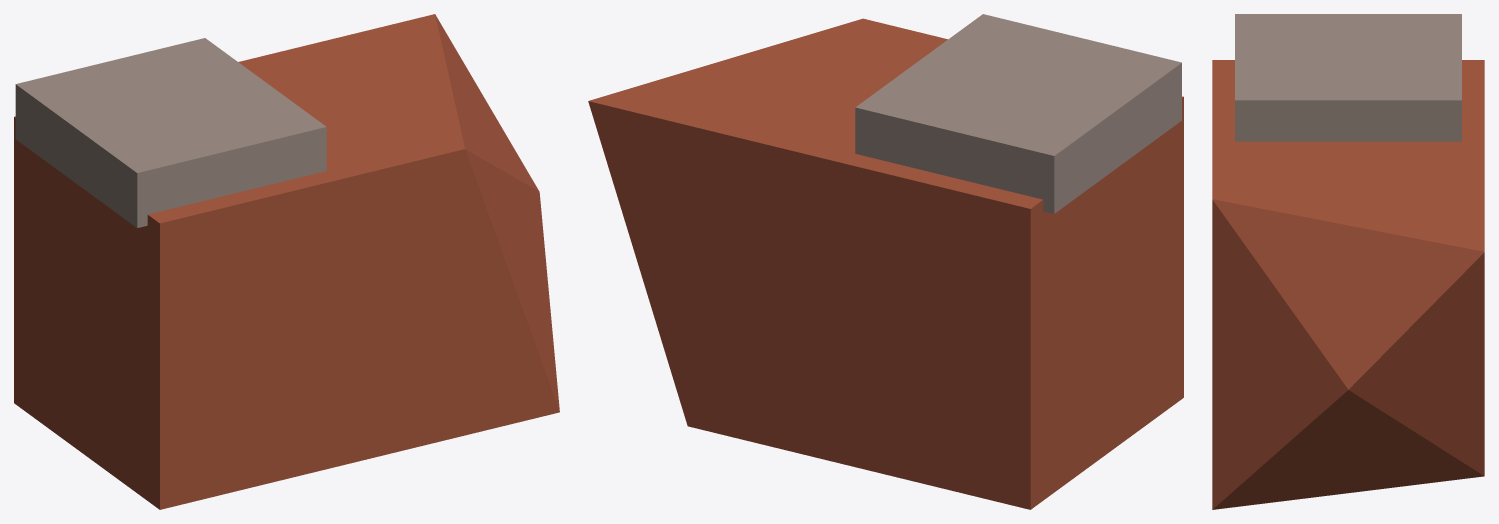
Rendered from brick_chunk.glb.
3 views of the same model, side by side, from view 1: azimuth 30°, elevation 25°; view 2: azimuth 150°, elevation 25°; view 3: azimuth 270°, elevation 25° (orthographic). The views are drawn at different scales.
Parts seen in each view (by area): view 1: Body; view 2: Body; view 3: Body.
Part boxes in pixels (x1,y1,x2,y2): Body: (14, 14, 559, 509); Body: (588, 14, 1183, 509); Body: (1212, 14, 1484, 509).
Bounding box in the file's own units: 0.44 × 0.3 × 0.24.
